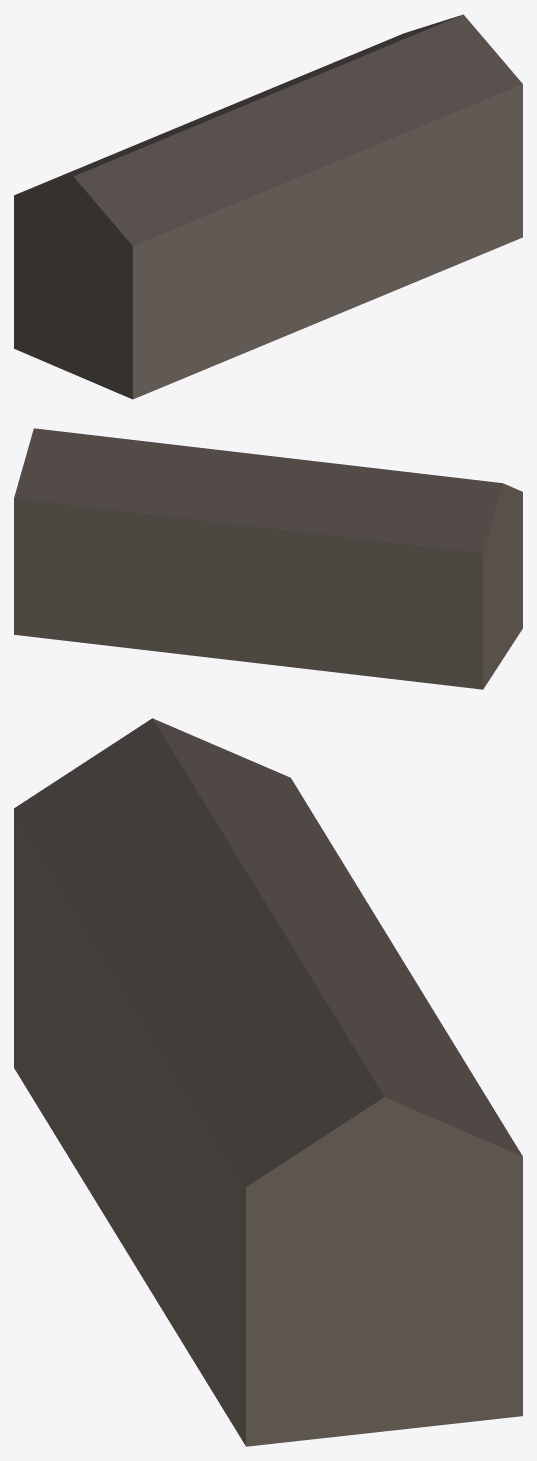
3 renders of one model, top to bottom at view 1: azimuth 30°, elevation 25°; view 2: azimuth 150°, elevation 25°; view 3: azimuth 270°, elevation 25°, orthographic. The views are drawn at different scales.
Parts seen in each view (by area): view 1: HP-w859424202; view 2: HP-w859424202; view 3: HP-w859424202.
Part boxes in pixels (x1=…): HP-w859424202: x1=14, y1=14, x2=522, y2=399; HP-w859424202: x1=14, y1=428, x2=522, y2=689; HP-w859424202: x1=14, y1=718, x2=522, y2=1446.
Bounding box in the file's own units: 30.45 × 11.6 × 16.
